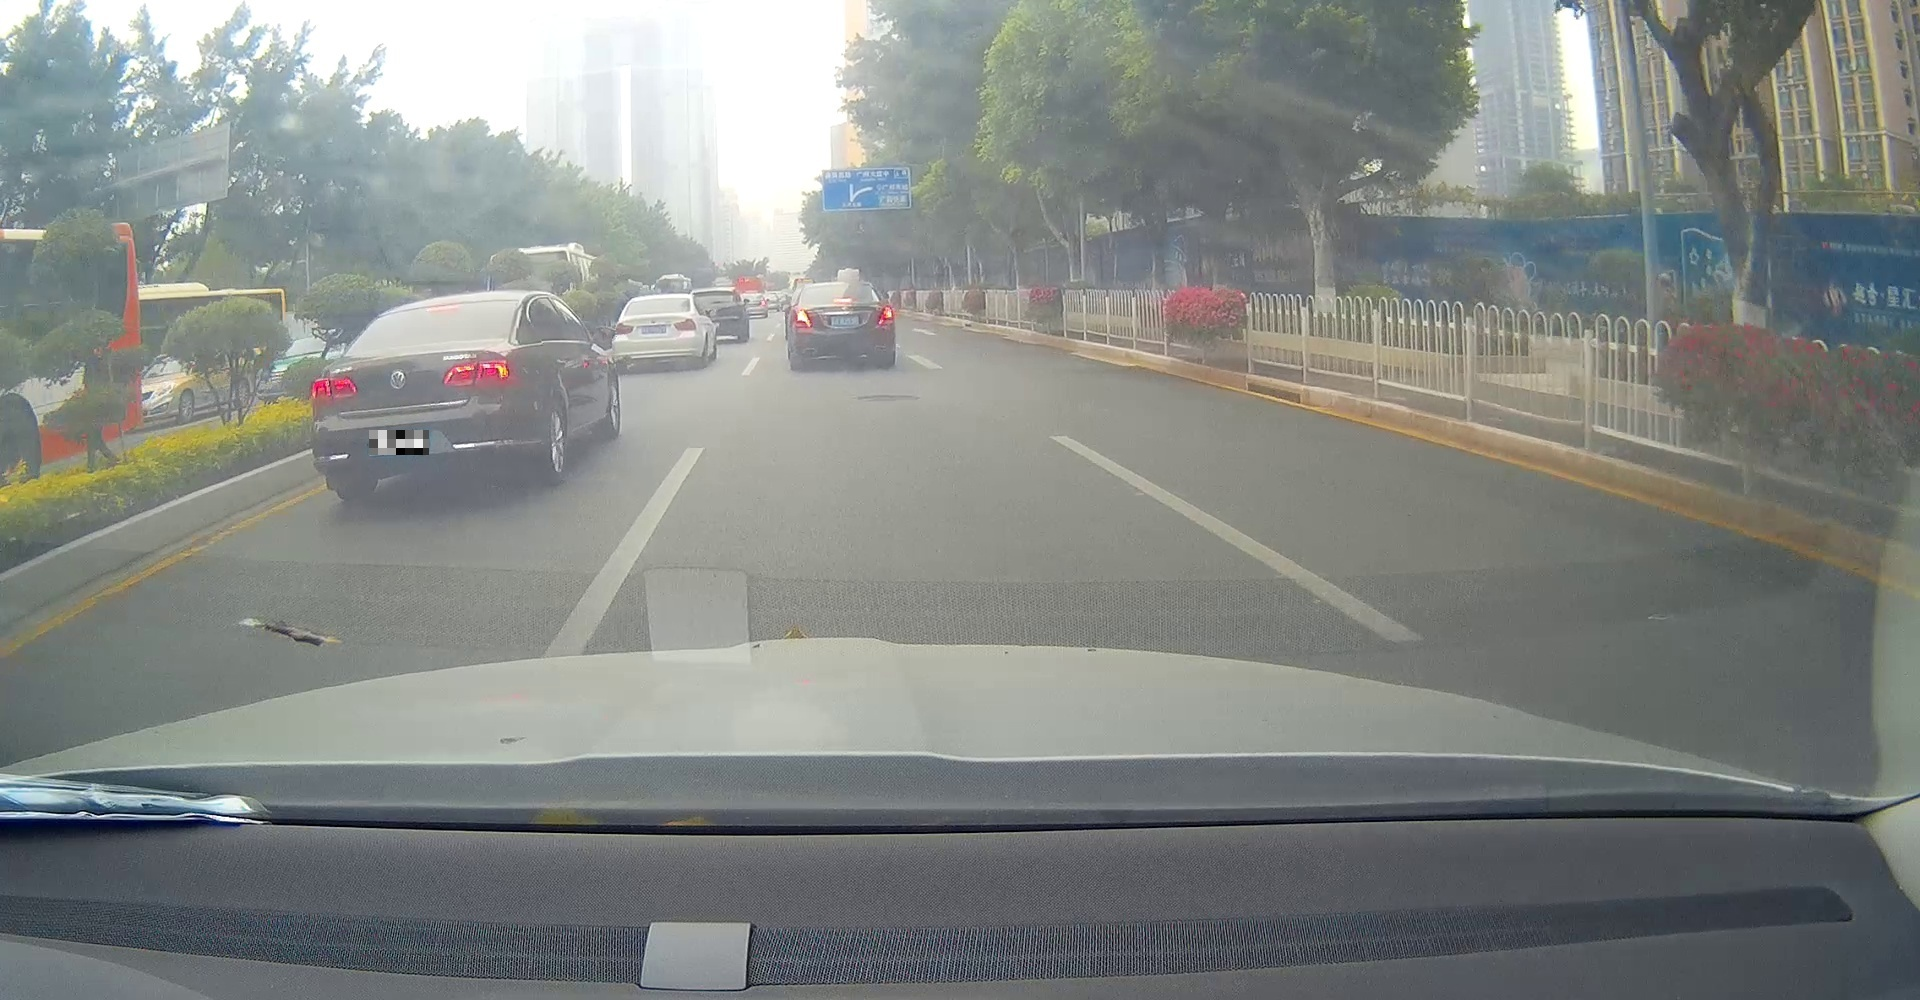L_light: (310, 377, 357, 401), (794, 308, 814, 327), (615, 324, 634, 335)
R_light: (442, 360, 510, 387), (877, 305, 894, 324), (673, 319, 697, 331)
T_light: (427, 305, 458, 313), (834, 299, 853, 305), (653, 299, 667, 303)
day-brake: (309, 293, 523, 503), (789, 283, 894, 371)
day-no: (611, 296, 700, 373)
plate_1: (370, 430, 429, 456)
